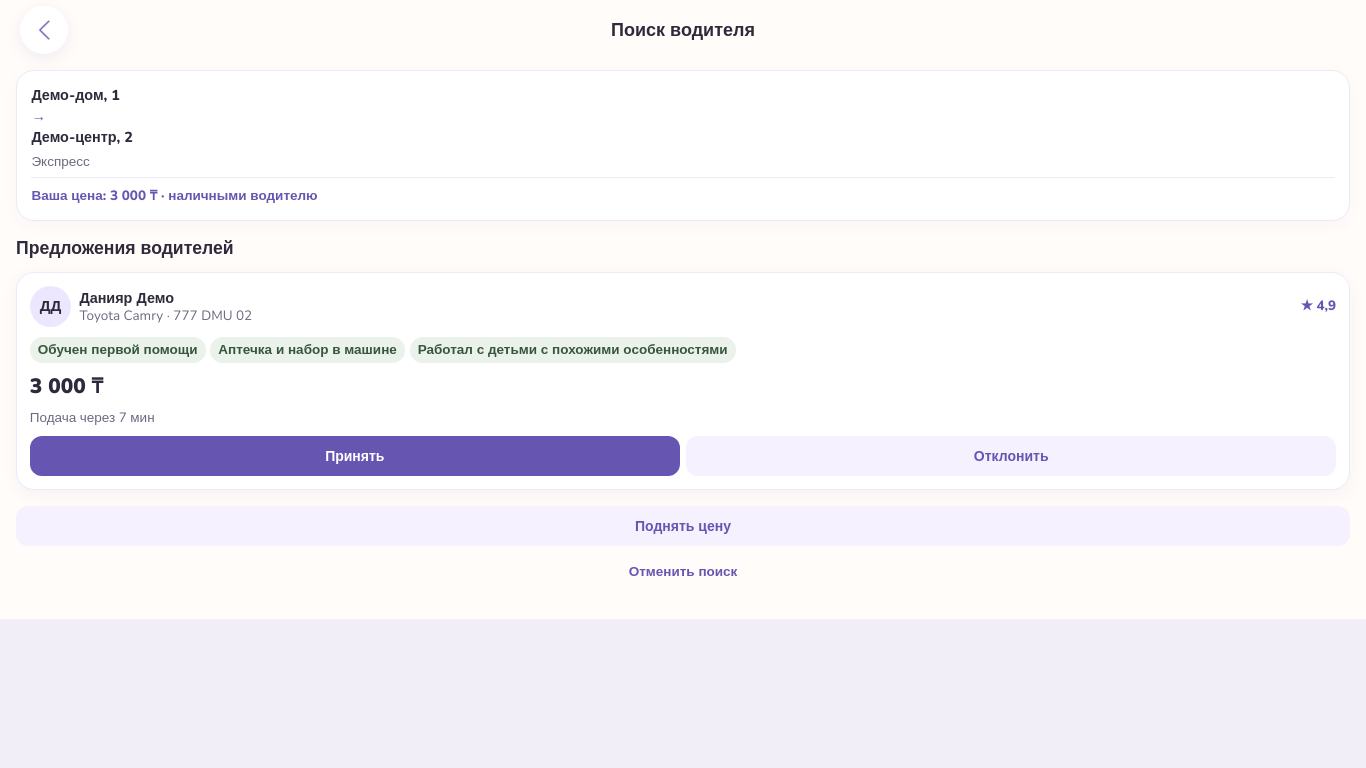
Test: search and offers › offer errors show translated toast and allow retry
The width and height of the screenshot is (1366, 768).
Click the button "Принять": (355, 456) top-left (30, 436), bottom-right (680, 476)
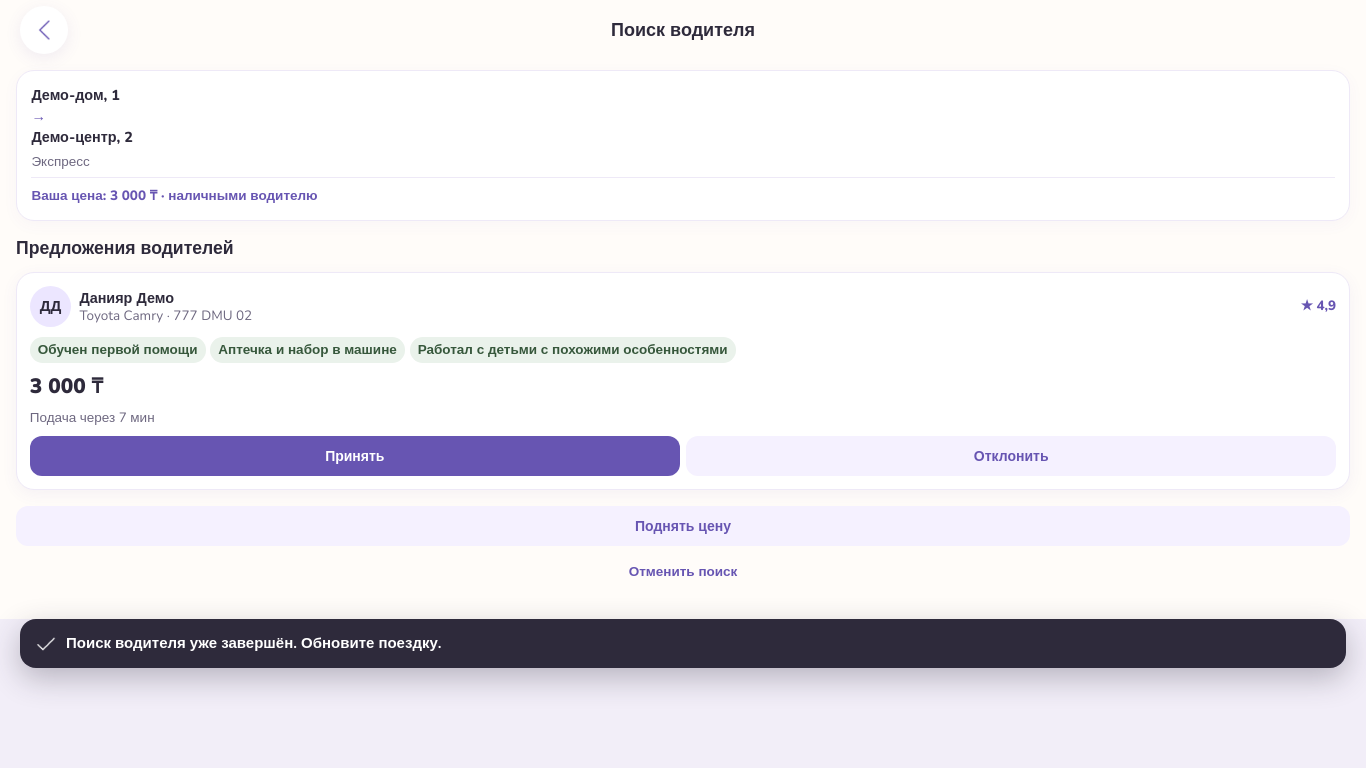
Check: the text "Поиск водителя уже завершён. Обновите поездку." is shown, box top-left (66, 633), bottom-right (442, 654)
